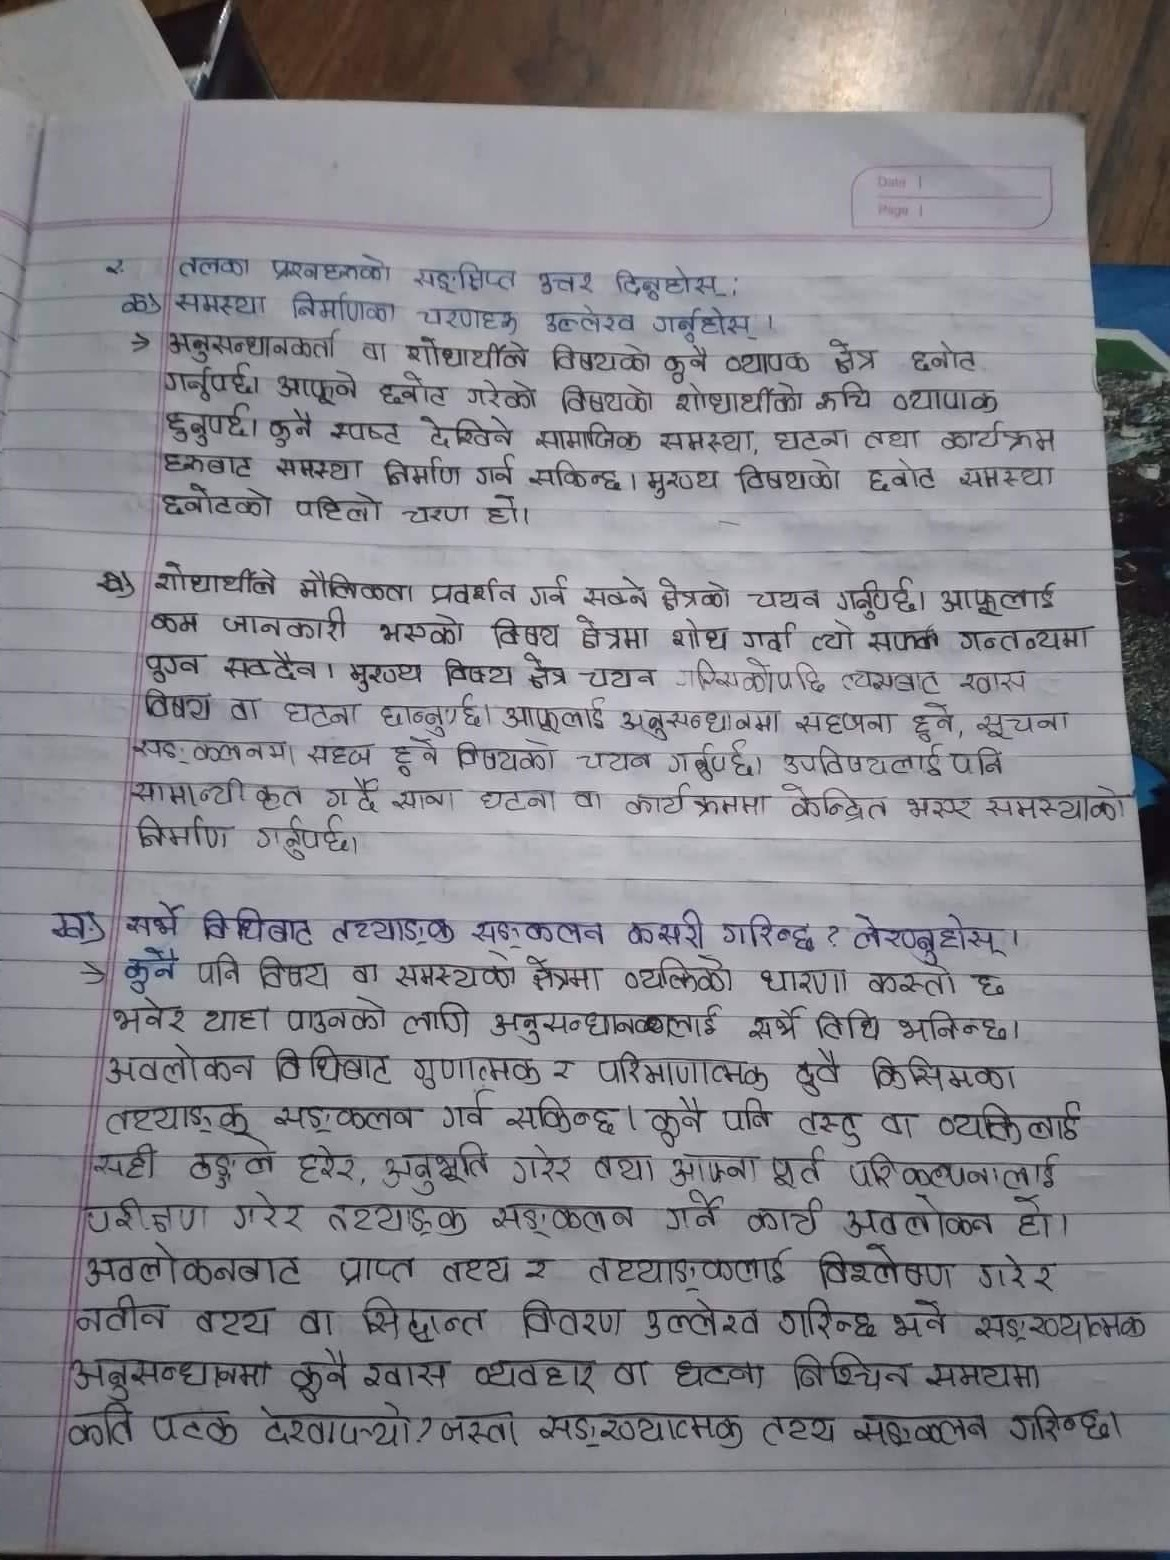text: (485, 1001, 724, 1047), (79, 1242, 308, 1289), (581, 1244, 798, 1292), (536, 1404, 746, 1449), (63, 1352, 277, 1397), (848, 1152, 1070, 1194), (847, 907, 1015, 961), (256, 1402, 415, 1451), (932, 1101, 1086, 1149), (590, 1049, 764, 1090), (844, 1196, 999, 1242), (812, 1244, 959, 1292), (965, 1309, 1165, 1343), (356, 1293, 485, 1344), (125, 773, 300, 809), (787, 1347, 917, 1397), (1003, 1402, 1128, 1452), (866, 1053, 1037, 1090), (374, 1142, 495, 1194), (673, 658, 831, 698), (80, 1193, 214, 1238), (847, 1408, 992, 1449), (98, 1045, 249, 1085), (614, 703, 787, 737), (936, 572, 1059, 620), (777, 744, 948, 779), (984, 786, 1128, 827), (128, 733, 296, 768), (489, 1200, 639, 1238), (619, 782, 774, 819), (327, 1199, 476, 1236), (272, 1098, 414, 1136), (637, 1296, 764, 1338), (469, 1352, 596, 1394), (294, 563, 417, 604), (251, 814, 360, 861), (607, 260, 732, 301), (498, 1096, 623, 1136), (190, 904, 311, 946), (267, 244, 395, 284), (467, 915, 611, 950), (130, 813, 236, 860), (98, 1101, 257, 1131), (329, 908, 457, 946), (717, 907, 822, 952), (215, 607, 349, 642), (406, 1051, 540, 1087), (152, 560, 280, 597), (775, 1297, 879, 1343), (732, 458, 846, 499), (922, 1357, 1050, 1393), (895, 1008, 1018, 1045), (672, 382, 804, 416), (168, 330, 334, 357), (375, 694, 485, 735), (954, 623, 1099, 653), (284, 994, 387, 1037), (617, 957, 732, 995), (270, 1047, 390, 1083), (517, 1300, 619, 1341), (664, 1355, 772, 1394), (157, 482, 277, 517), (392, 957, 520, 990), (149, 1406, 245, 1451), (74, 1293, 178, 1334), (499, 696, 610, 735), (780, 782, 891, 821), (938, 420, 1059, 454), (436, 1406, 522, 1454), (408, 259, 519, 296), (832, 574, 924, 618), (968, 1250, 1063, 1293), (288, 287, 395, 324), (449, 739, 563, 774), (186, 1142, 272, 1188), (65, 1402, 143, 1452), (621, 907, 708, 951), (229, 1191, 306, 1239), (404, 340, 525, 371), (426, 569, 524, 607), (752, 962, 852, 999), (162, 364, 259, 400), (557, 381, 656, 416), (667, 739, 755, 780), (796, 704, 893, 739), (863, 962, 960, 997), (162, 404, 249, 443), (650, 307, 757, 339), (956, 459, 1058, 493), (525, 458, 623, 493), (419, 303, 525, 335), (535, 423, 644, 453), (973, 708, 1077, 739), (758, 1409, 838, 1449), (333, 1252, 426, 1286), (358, 1356, 451, 1390), (543, 343, 648, 373), (107, 996, 190, 1034), (222, 649, 318, 682), (889, 387, 1000, 415), (288, 1350, 350, 1400), (417, 416, 519, 447), (294, 1142, 364, 1187), (506, 1142, 576, 1187), (745, 1196, 823, 1236), (292, 489, 382, 523), (397, 997, 471, 1039), (190, 1301, 274, 1338), (541, 303, 637, 335), (374, 612, 466, 645), (839, 665, 943, 694), (526, 953, 606, 991), (645, 1096, 707, 1145), (865, 458, 946, 495), (789, 1108, 870, 1145), (669, 1152, 757, 1185), (903, 338, 986, 373), (86, 1142, 165, 1179), (891, 1296, 952, 1343), (485, 612, 560, 650), (576, 572, 651, 610), (256, 950, 328, 989), (642, 466, 721, 501), (571, 615, 651, 651), (379, 454, 467, 486), (656, 574, 732, 610), (438, 1252, 514, 1289), (809, 1006, 886, 1042), (791, 1048, 850, 1094), (136, 688, 213, 723), (157, 451, 257, 478), (900, 789, 975, 824), (348, 658, 428, 692), (272, 371, 358, 402), (119, 895, 181, 938), (280, 694, 356, 728), (117, 947, 176, 991), (664, 1190, 723, 1234), (576, 661, 661, 692), (136, 645, 206, 682), (954, 667, 1041, 696), (198, 1002, 275, 1035), (769, 1145, 831, 1187), (656, 429, 755, 454), (591, 1147, 659, 1184), (320, 775, 382, 814), (441, 656, 515, 689), (721, 346, 811, 373), (379, 371, 446, 407), (665, 615, 728, 653), (1009, 1196, 1064, 1239), (570, 746, 658, 773), (272, 456, 366, 480), (193, 950, 248, 991), (474, 786, 559, 813), (438, 1090, 490, 1133), (718, 1097, 775, 1136), (952, 746, 1014, 782), (172, 291, 268, 314), (465, 380, 540, 409), (771, 426, 850, 453), (865, 626, 945, 653), (823, 338, 884, 373), (742, 582, 821, 609), (392, 782, 458, 814), (748, 1004, 800, 1044), (265, 407, 313, 450), (395, 501, 469, 528), (331, 416, 401, 445), (390, 737, 438, 778), (907, 700, 956, 739), (305, 742, 374, 769), (814, 381, 874, 411), (862, 425, 924, 454), (741, 620, 799, 652), (172, 255, 253, 278), (520, 651, 567, 689), (807, 622, 857, 656), (660, 346, 710, 380), (532, 268, 596, 294), (50, 908, 93, 945), (147, 604, 202, 633), (610, 1357, 654, 1392), (528, 567, 567, 607), (297, 1303, 338, 1340), (482, 493, 524, 528), (474, 454, 517, 486), (879, 1108, 918, 1142), (973, 968, 1013, 1001), (91, 567, 129, 597), (104, 246, 132, 281), (229, 695, 261, 723), (119, 292, 155, 317), (351, 956, 381, 985), (575, 787, 606, 814), (361, 341, 392, 367), (526, 1257, 551, 1286), (551, 1056, 573, 1082)
